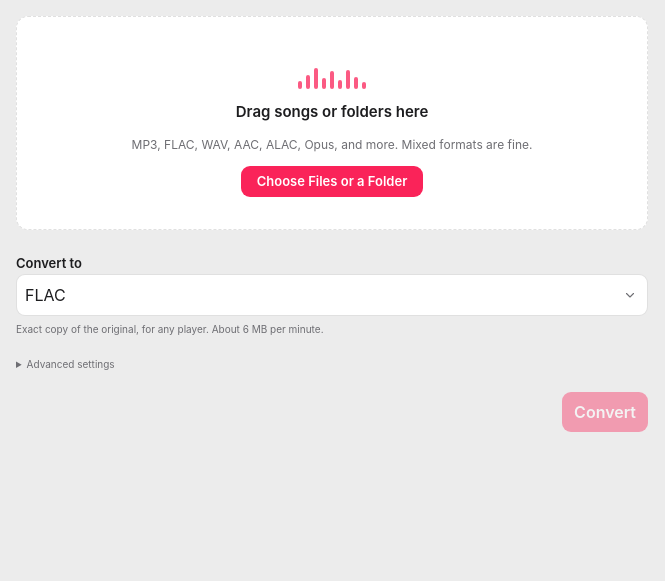
Test: SetupView - advanced settings caption switches by codec kind (SetupView.swift:182-204) › shows the lossless explanation and Compression picker for a lossless codec that supports it
Click the heading "Advanced settings" at [71, 364], box [27,358,115,370]
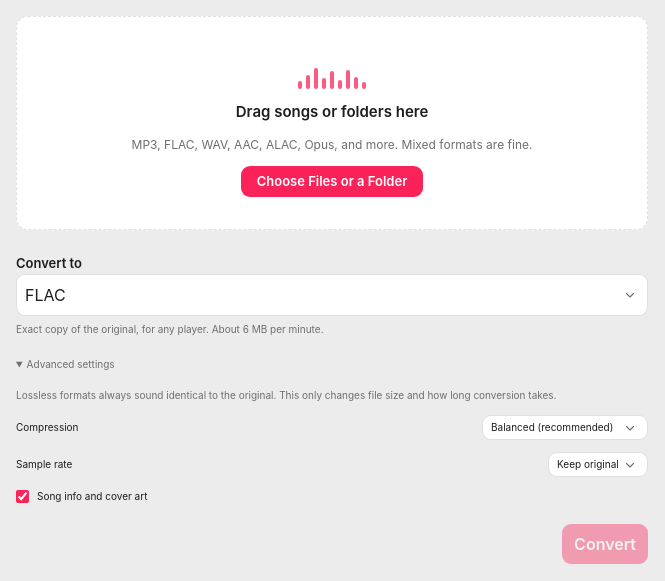
Expected: the text "Lossless formats always sound identical" is shown, [16,389,556,401]
Expected: the text "Compression" is shown, [16,420,78,435]
